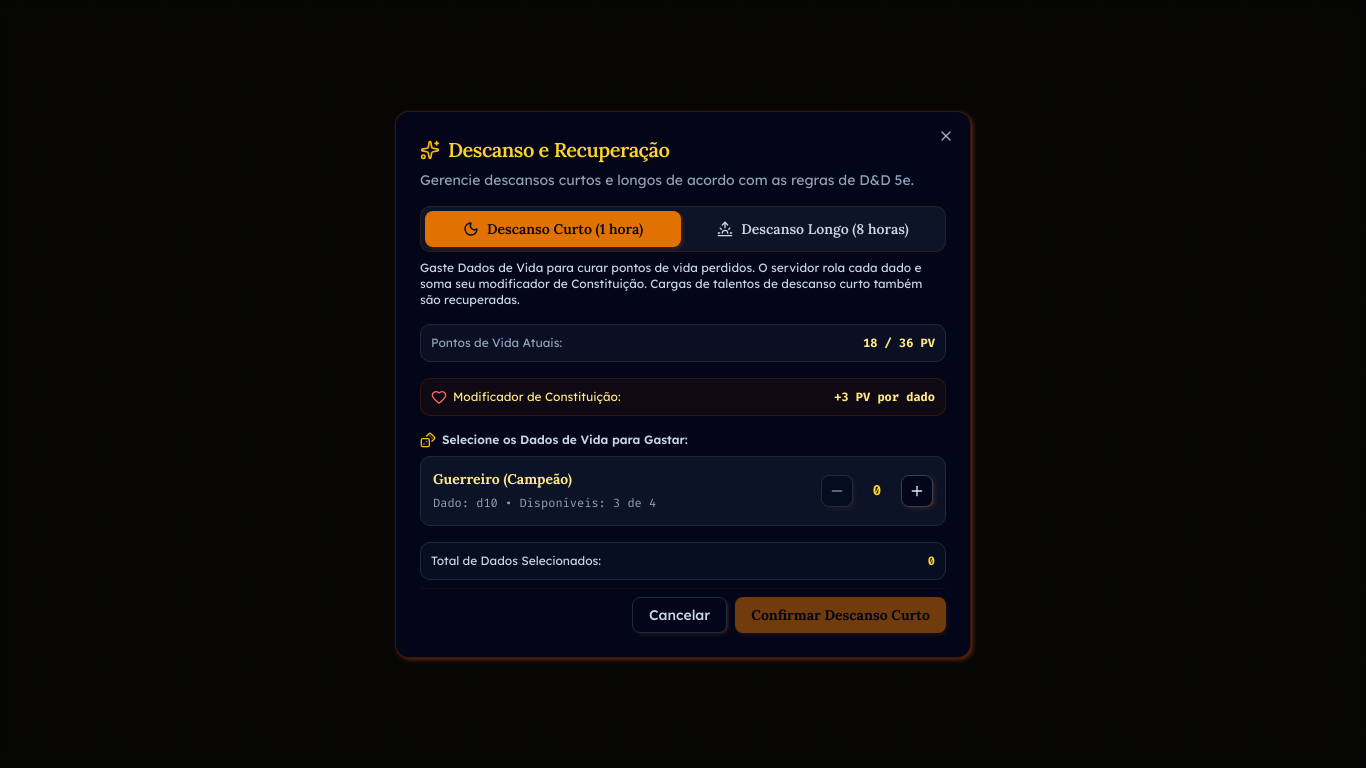
Test: TP-05: RestModal Component & Interactions › allows incrementing/decrementing hit dice and dispatches short rest payload
Later steps or results of the test are not shown.
// Increase dice spend
What coordinates should you click on to do the following:
click the button named "Aumentar dados de Guerreiro"
I would click on:
 (917, 490)
Its box is [901,474,933,506].
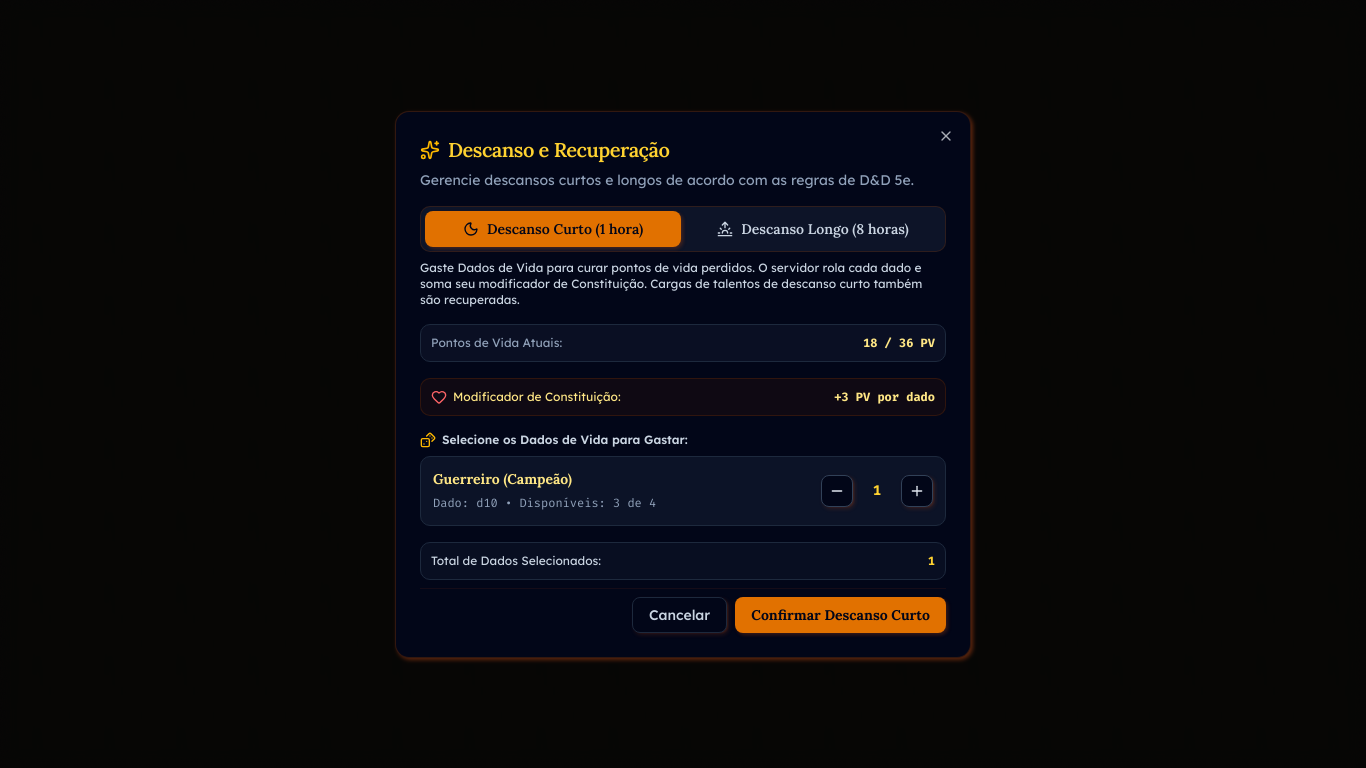
Now the text with test id "dice-count-0" reads "1", box [873,480,881,500]
Now the text with test id "total-dice-selected" reads "1", box [928,552,935,568]
Now the button with test id "confirm-short-rest-btn" is enabled, box [735,596,946,632]
